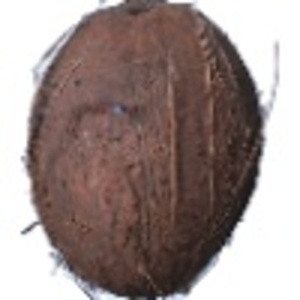coco: (22, 1, 278, 300)
